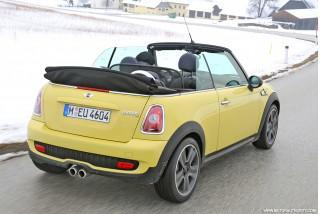mini: (77, 90, 97, 104)
